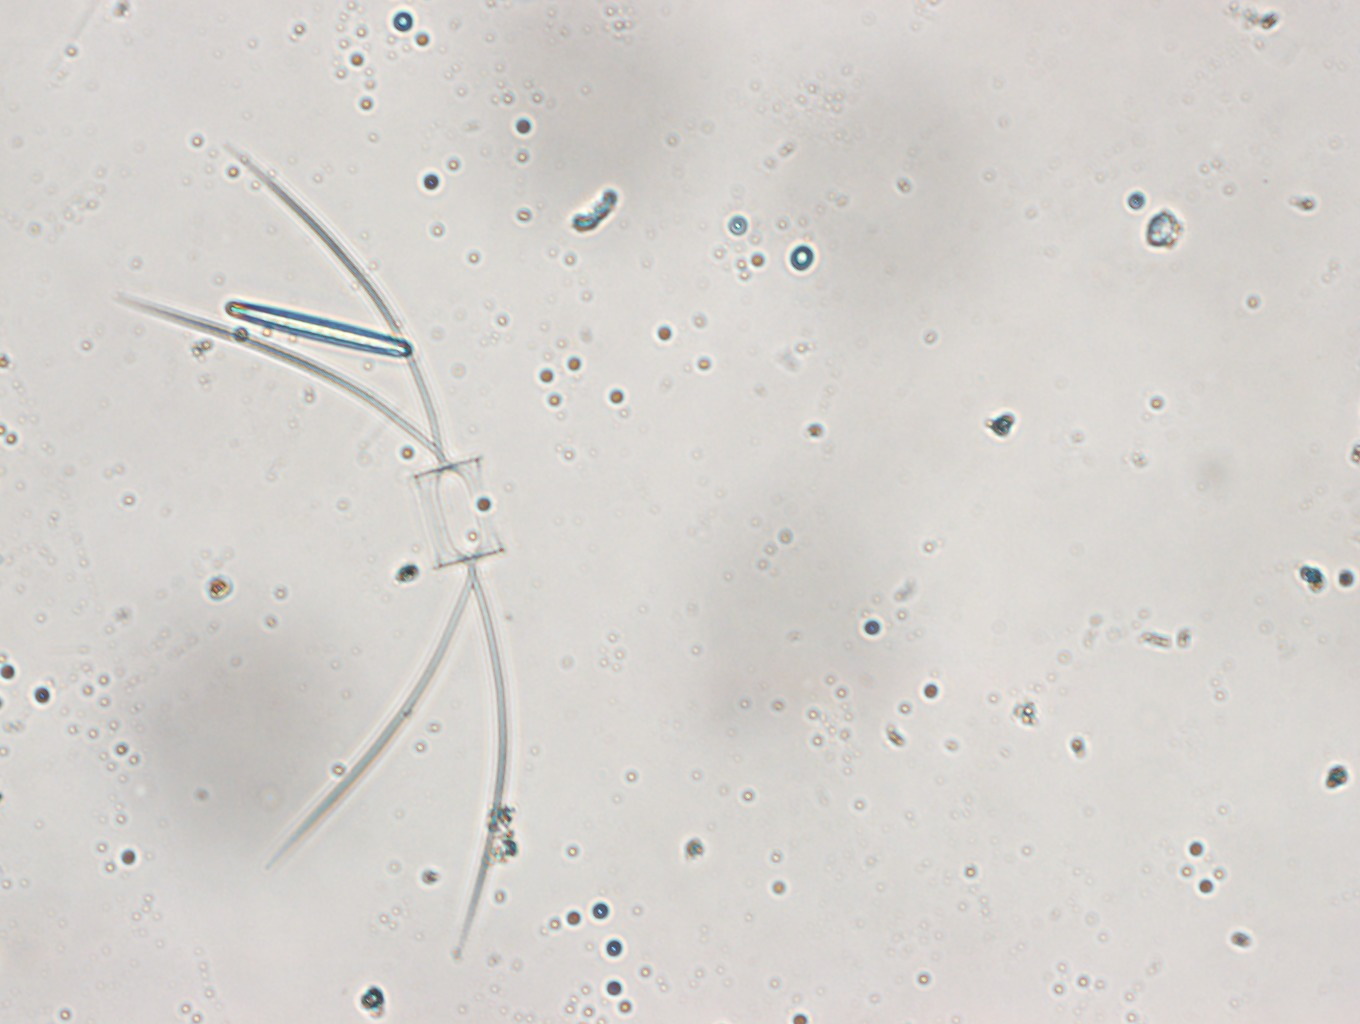chaetoceros: (110, 131, 516, 968)
